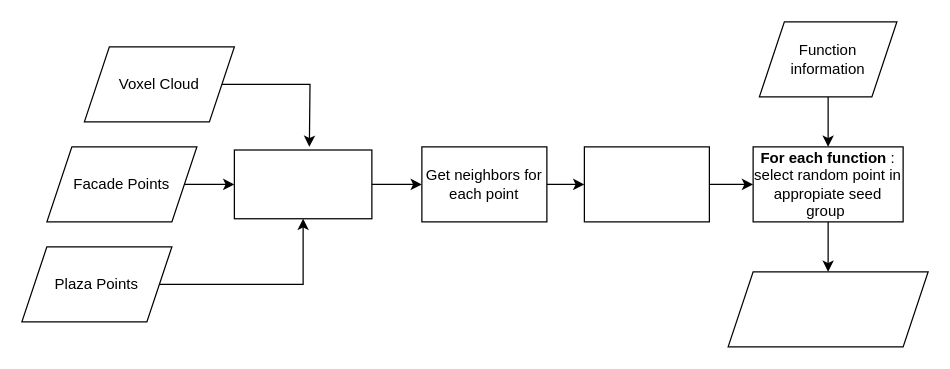
This 950x369 diagram has some shape labels left out. Each missing label, with the box of its shape:
Group suitable seed locations based on adjacency: (583, 146, 709, 222)
Growth agent seeds per function: (727, 271, 928, 347)
Merge data: (233, 149, 372, 219)
